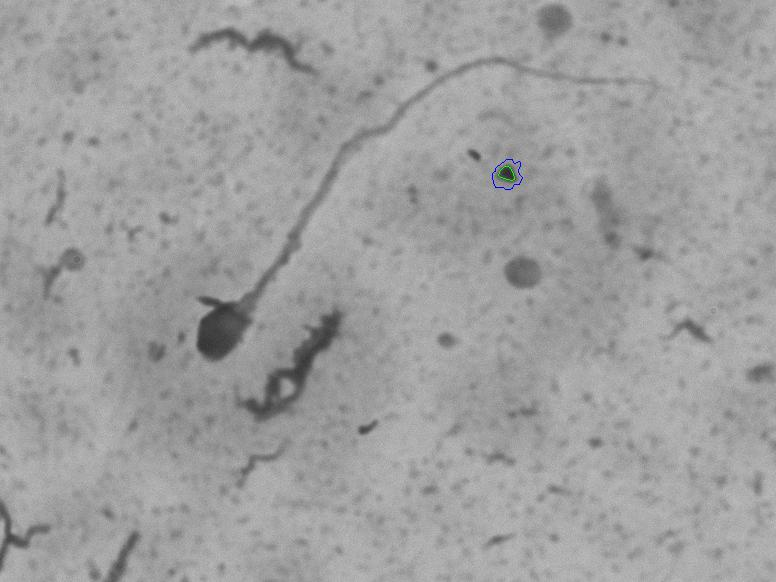Abnormal: (171, 44, 685, 388)
